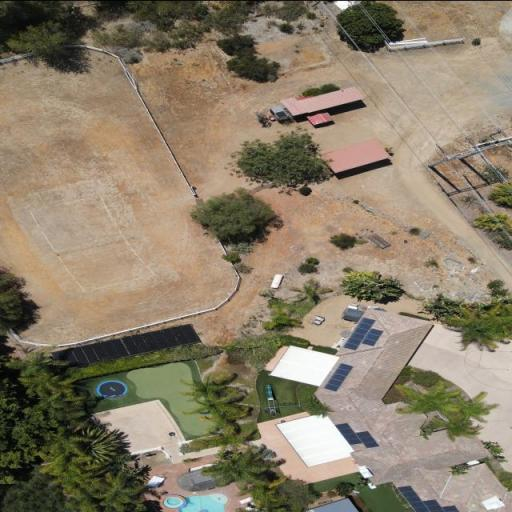solar-panel: (50, 323, 202, 370), (397, 485, 461, 512), (343, 316, 384, 350), (335, 422, 379, 447), (324, 362, 354, 391)
